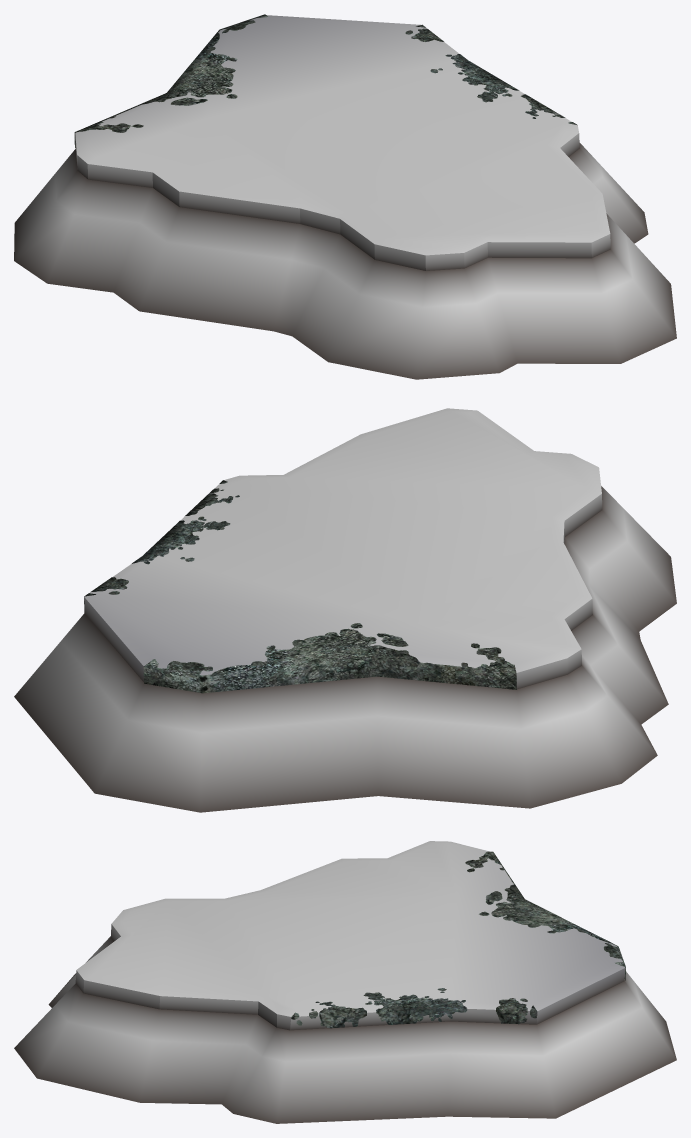
The model's file is RoadChunk03.FBX.
The picture shows the model from 3 angles, top to bottom: view 1: azimuth 30°, elevation 25°; view 2: azimuth 150°, elevation 25°; view 3: azimuth 270°, elevation 25°; orthographic projection. The views are drawn at different scales.
Visible parts, largest first — view 1: Road, Object16, Object06; view 2: Road, Object16, Object06; view 3: Road, Object06, Object16.
Part boxes in pixels (x1=…): Road: x1=14, y1=15, x2=676, y2=379; Object16: x1=74, y1=14, x2=267, y2=147; Object06: x1=405, y1=24, x2=576, y2=124; Road: x1=14, y1=408, x2=676, y2=812; Object16: x1=143, y1=623, x2=516, y2=693; Object06: x1=84, y1=480, x2=239, y2=603; Road: x1=14, y1=841, x2=676, y2=1123; Object06: x1=291, y1=988, x2=537, y2=1028; Object16: x1=465, y1=851, x2=625, y2=980.
Size of what is drawn, in the model's own units: 1.54 by 0.2999 by 1.95.
